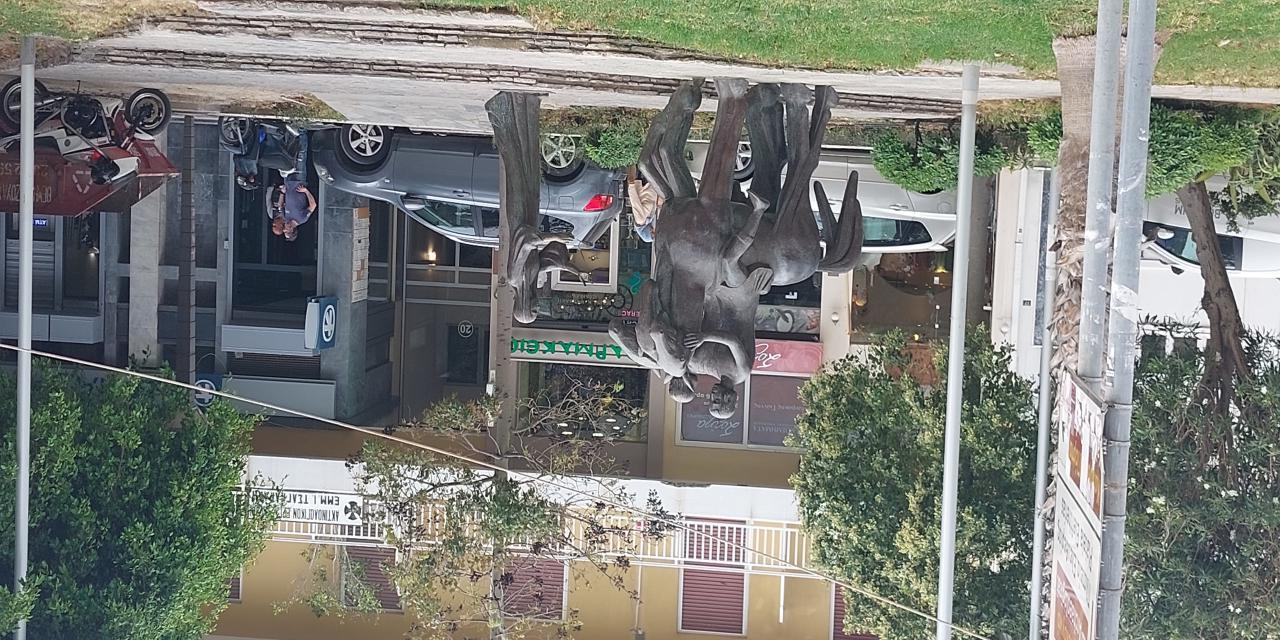Aretousa: (484, 76, 864, 422)
